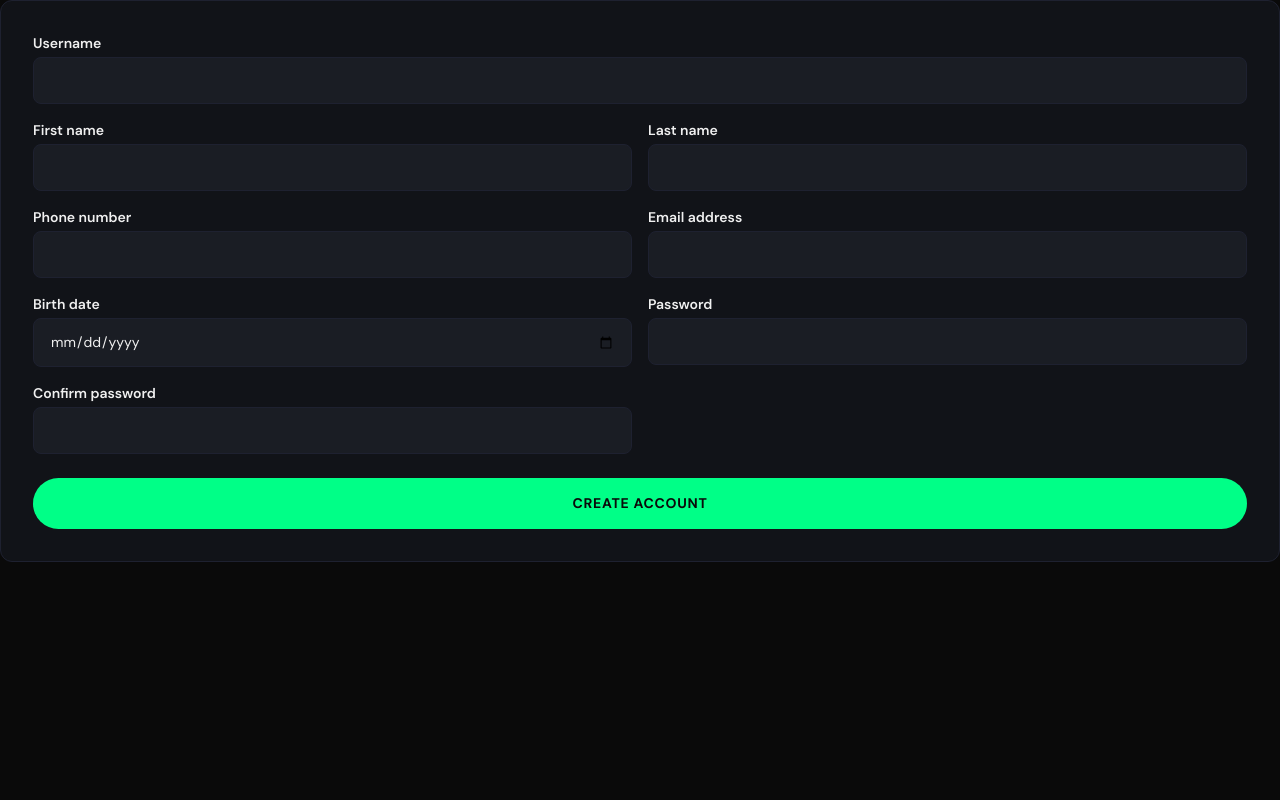
Test: RegisterForm › focuses the first invalid field and associates its error text
The width and height of the screenshot is (1280, 800).
Click the button "Create account": (640, 504) [33, 478, 1247, 529]
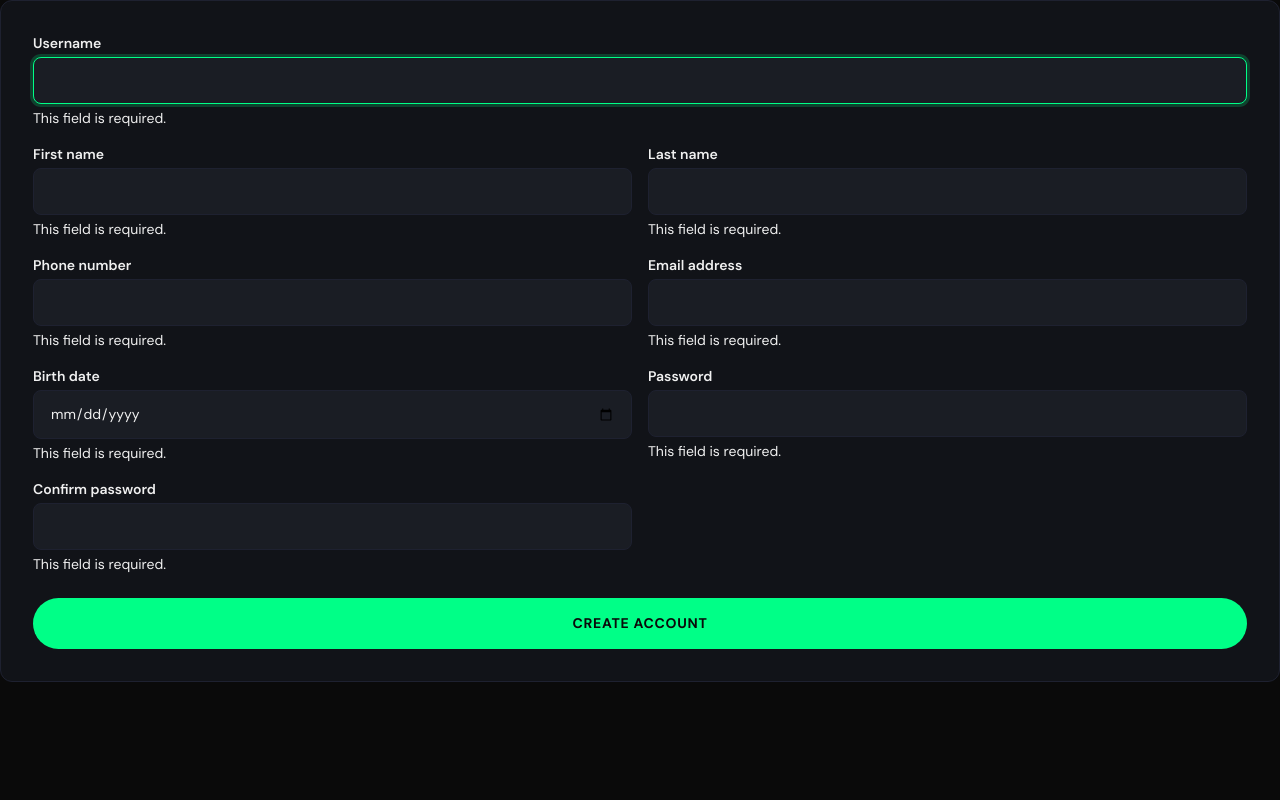
expect the number of messages is 8: met
